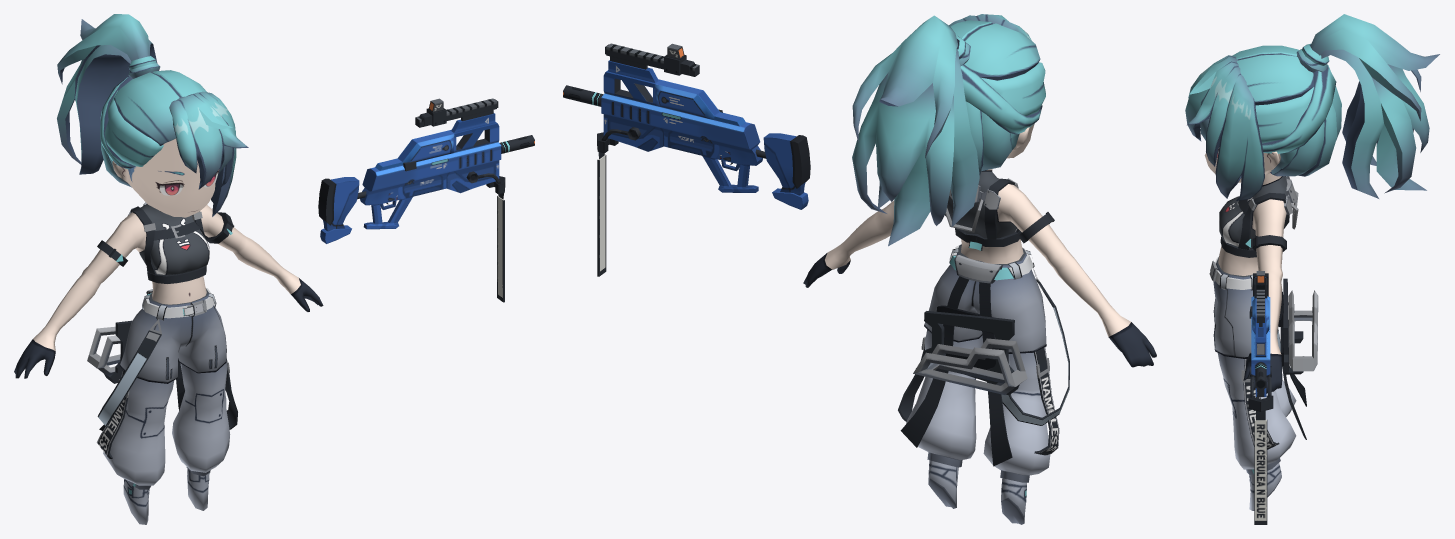
File: CH_05_fbx_v001_HairDettached_FaceNormal.fbx
The picture shows the model from 3 angles, left to right: view 1: azimuth 30°, elevation 25°; view 2: azimuth 150°, elevation 25°; view 3: azimuth 270°, elevation 25°; orthographic projection. The views are drawn at different scales.
Visible parts, largest first — view 1: hair, lowerbody, weapon, upperbody, lowerequipment, head, upperbody_nonskin, upperequipment; view 2: hair, weapon, lowerbody, lowerequipment, upperbody, upperbody_nonskin, upperequipment; view 3: hair, lowerbody, weapon, lowerequipment, upperbody, upperbody_nonskin, upperequipment, head.
Part boxes in pixels (bbox=[...]): hair: bbox=[57, 14, 248, 216]; lowerbody: bbox=[103, 289, 230, 524]; weapon: bbox=[318, 98, 534, 302]; upperbody: bbox=[33, 205, 300, 351]; lowerequipment: bbox=[87, 288, 237, 458]; head: bbox=[112, 138, 219, 217]; upperbody_nonskin: bbox=[14, 204, 323, 378]; upperequipment: bbox=[97, 202, 234, 283]; hair: bbox=[852, 14, 1045, 246]; weapon: bbox=[563, 43, 810, 276]; lowerbody: bbox=[906, 244, 1050, 524]; lowerequipment: bbox=[898, 245, 1069, 466]; upperbody: bbox=[825, 169, 1130, 336]; upperbody_nonskin: bbox=[803, 171, 1156, 367]; upperequipment: bbox=[945, 178, 1054, 250]; hair: bbox=[1185, 14, 1439, 200]; lowerbody: bbox=[1213, 257, 1296, 510]; weapon: bbox=[1248, 271, 1273, 524]; lowerequipment: bbox=[1209, 256, 1318, 449]; upperbody: bbox=[1218, 173, 1286, 354]; upperbody_nonskin: bbox=[1219, 176, 1287, 393]; upperequipment: bbox=[1220, 176, 1298, 257]; head: bbox=[1204, 147, 1280, 182].
Bounding box in the file's own units: 96.24 × 83.93 × 40.37.
